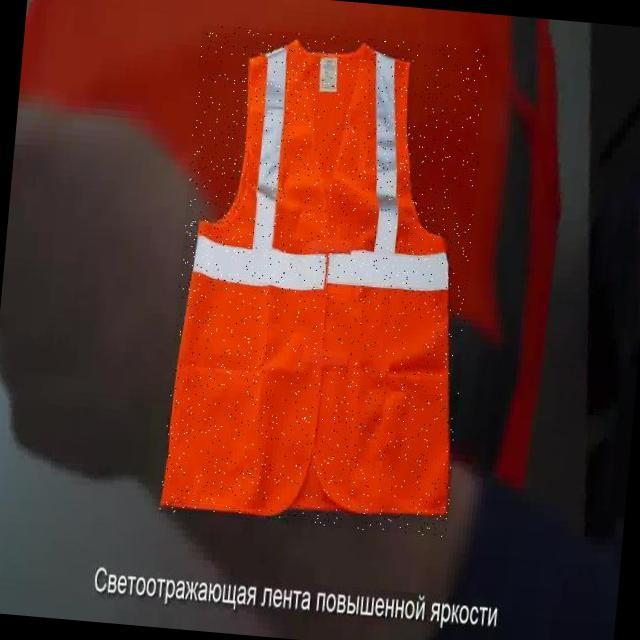Safety Vest: (159, 24, 489, 537)
bare-arms: (1, 96, 215, 487)
